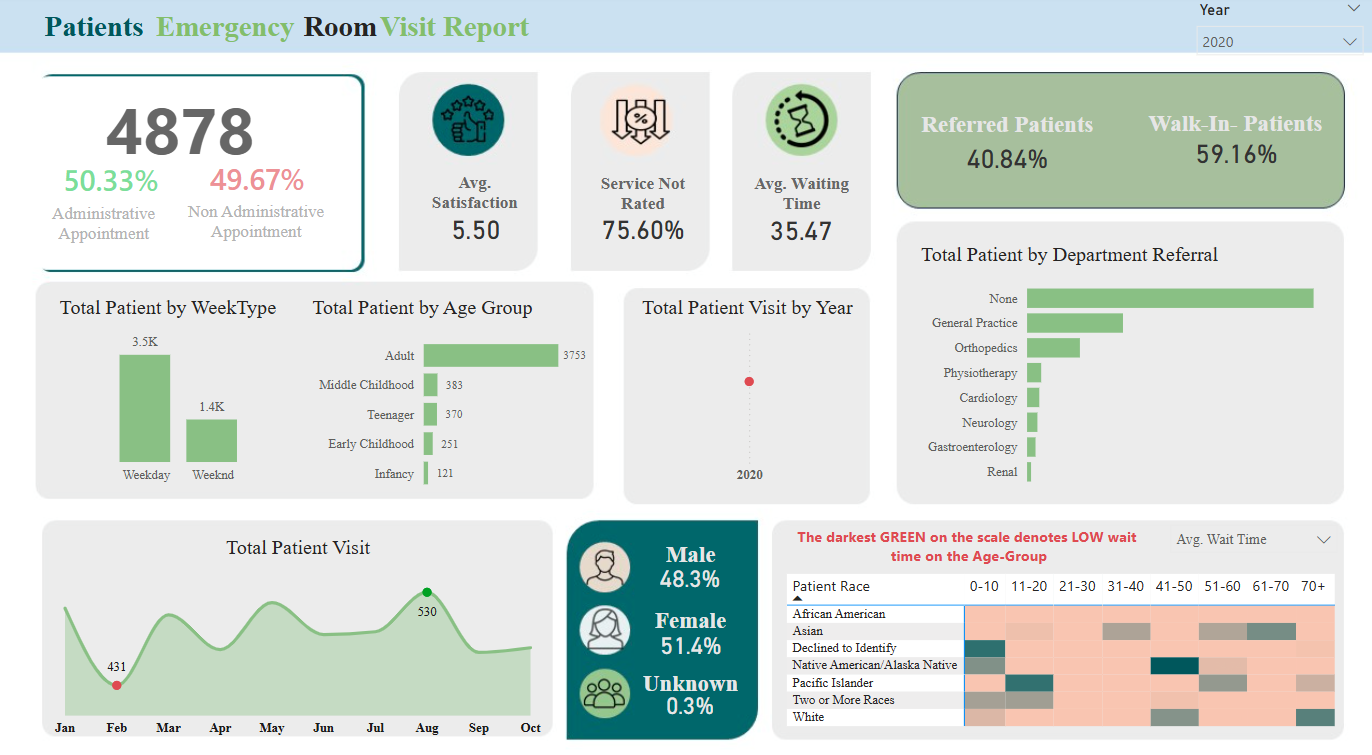

The dashboard page shown, as its layout file describes it:
{"tool":"powerbi","page":{"name":"Home","canvas":[1280,720],"ordinal":0},"visuals":[{"type":"card","fields":{"Values":["Measures (2).Total Patient"]},"box":[87.2,87.2,165.1,69.8],"z":0},{"type":"card","fields":{"Values":["Measures (2).Administrative Schedule"]},"box":[50,158.1,110.5,30.2],"z":1000},{"type":"card","fields":{"Values":["Measures (2).Non-Administrative Schedule"]},"box":[186,157,110.5,30.2],"z":2000},{"type":"card","fields":{"Values":["Measures (2).Average Satisfaction Score"]},"box":[409.3,202.3,69.8,30.2],"z":3000},{"type":"card","fields":{"Values":["Measures (2).% No Ratings"]},"box":[551.2,200,97.7,34.9],"z":4000},{"type":"card","fields":{"Values":["Measures (2).Average Wait Time"]},"box":[703.5,202.3,87.2,32.6],"z":5000},{"type":"pivotTable","fields":{"Values":["Measures (2).Average Wait Time"],"Rows":["Patient Dataset.patient_race"],"Columns":["Patient Dataset.Age Buckets"]},"box":[729.1,533.7,532.6,155.8],"z":6000},{"type":"slicer","fields":{"Values":["Parameter1.Parameter1"]},"box":[1080.2,482.6,175.6,45.3],"z":7000},{"type":"areaChart","title":"Total Patient Visit","fields":{"Category":["Date Table.Month"],"Y":["Measures (2).Value Max Poin (month)","Measures (2).Total Patient"]},"box":[38.4,503.5,481.4,193],"z":8000},{"type":"lineChart","title":"Total Patient Visit by Year","fields":{"Y":["Measures (2).Value Max Poin (year)","Measures (2).Total Patient"],"Category":["Date Table.Year"]},"box":[593,280.2,208.1,181.4],"z":9000},{"type":"slicer","fields":{"Values":["Date Table.Year"]},"box":[1104.6,0,175.6,64.5],"z":10000},{"type":"clusteredBarChart","title":"Total Patient by Department Referral","fields":{"Y":["Measures (2).Total Patient"],"Category":["Patient Dataset.department_referral"]},"box":[853.5,230.2,386,237.2],"z":11000},{"type":"card","fields":{"Values":["Measures (2).% Referred Patient"]},"box":[887.2,130.2,103.5,43],"z":12000},{"type":"card","fields":{"Values":["Measures (2).% Un Referred Patient"]},"box":[1105.8,131.4,91.9,31.4],"z":13000},{"type":"card","fields":{"Values":["Measures (2).Heatmap Caption"]},"box":[720.9,482.6,365.1,55.8],"z":14000},{"type":"textbox","box":[36,189.5,124.4,47.7],"z":15000},{"type":"textbox","box":[166.3,187.2,147.7,50],"z":16000},{"type":"textbox","box":[389.5,160.5,108.1,48.8],"z":17000},{"type":"textbox","box":[546.5,161.6,107,47.7],"z":18000},{"type":"textbox","box":[694.2,161.6,107,47.7],"z":19000},{"type":"textbox","box":[1054.7,102.3,193,47.7],"z":20000},{"type":"textbox","box":[847.7,103.5,182.6,44.2],"z":21000},{"type":"columnChart","fields":{"Category":["Date Table.WeekType"],"Y":["Measures (2).Total Patient"]},"box":[52.3,280.2,233.7,181.4],"z":22000},{"type":"clusteredBarChart","title":"Total Patient by Age Group","fields":{"Y":["Measures (2).Total Patient"],"Category":["Patient Dataset.Age Group"]},"box":[287.2,280.2,265.1,191.9],"z":23000},{"type":"card","fields":{"Values":["Measures (2).% Female Visit"]},"box":[600,518.6,87.2,47.7],"z":24000},{"type":"card","fields":{"Values":["Measures (2).% Unknown"]},"box":[602.3,639.5,82.6,43],"z":25000},{"type":"card","fields":{"Values":["Measures (2).% Male Visit"]},"box":[597.7,583.7,93,43],"z":26000},{"type":"textbox","box":[38.4,9.3,110.5,45.3],"z":27000},{"type":"textbox","box":[141.9,9.3,151.2,45.3],"z":28000},{"type":"textbox","box":[279.1,9.3,94.2,45.3],"z":29000},{"type":"textbox","box":[350,9.3,243,45.3],"z":30000},{"type":"textbox","box":[593,503.5,102.3,37.2],"z":30001},{"type":"textbox","box":[593,565.1,102.3,38.4],"z":30002},{"type":"textbox","box":[586,623.3,116.3,45.3],"z":30003}]}

Visuals, with their boxes in screenshot pixels (x1, y1, x2, y2), scaled from the page's 1280x720 canvas onto the 1372x755 screenshot:
card - Measures (2).Total Patient: bbox=[93, 91, 270, 165]
card - Measures (2).Administrative Schedule: bbox=[54, 166, 172, 197]
card - Measures (2).Non-Administrative Schedule: bbox=[199, 165, 318, 196]
card - Measures (2).Average Satisfaction Score: bbox=[439, 212, 514, 244]
card - Measures (2).% No Ratings: bbox=[591, 210, 696, 246]
card - Measures (2).Average Wait Time: bbox=[754, 212, 848, 246]
pivotTable - Measures (2).Average Wait Time x Patient Dataset.patient_race: bbox=[782, 560, 1352, 723]
slicer - Parameter1.Parameter1: bbox=[1158, 506, 1346, 554]
"Total Patient Visit" areaChart: bbox=[41, 528, 557, 730]
"Total Patient Visit by Year" lineChart: bbox=[636, 294, 859, 484]
slicer - Date Table.Year: bbox=[1184, 0, 1371, 68]
"Total Patient by Department Referral" clusteredBarChart: bbox=[915, 241, 1329, 490]
card - Measures (2).% Referred Patient: bbox=[951, 137, 1062, 182]
card - Measures (2).% Un Referred Patient: bbox=[1185, 138, 1284, 171]
card - Measures (2).Heatmap Caption: bbox=[773, 506, 1164, 565]
textbox: bbox=[39, 199, 172, 249]
textbox: bbox=[178, 196, 337, 249]
textbox: bbox=[417, 168, 533, 219]
textbox: bbox=[586, 169, 700, 219]
textbox: bbox=[744, 169, 859, 219]
textbox: bbox=[1131, 107, 1337, 157]
textbox: bbox=[909, 109, 1104, 155]
columnChart - Date Table.WeekType x Measures (2).Total Patient: bbox=[56, 294, 307, 484]
"Total Patient by Age Group" clusteredBarChart: bbox=[308, 294, 592, 495]
card - Measures (2).% Female Visit: bbox=[643, 544, 737, 594]
card - Measures (2).% Unknown: bbox=[646, 671, 734, 716]
card - Measures (2).% Male Visit: bbox=[641, 612, 740, 657]
textbox: bbox=[41, 10, 160, 57]
textbox: bbox=[152, 10, 314, 57]
textbox: bbox=[299, 10, 400, 57]
textbox: bbox=[375, 10, 636, 57]
textbox: bbox=[636, 528, 745, 567]
textbox: bbox=[636, 593, 745, 633]
textbox: bbox=[628, 654, 753, 701]
